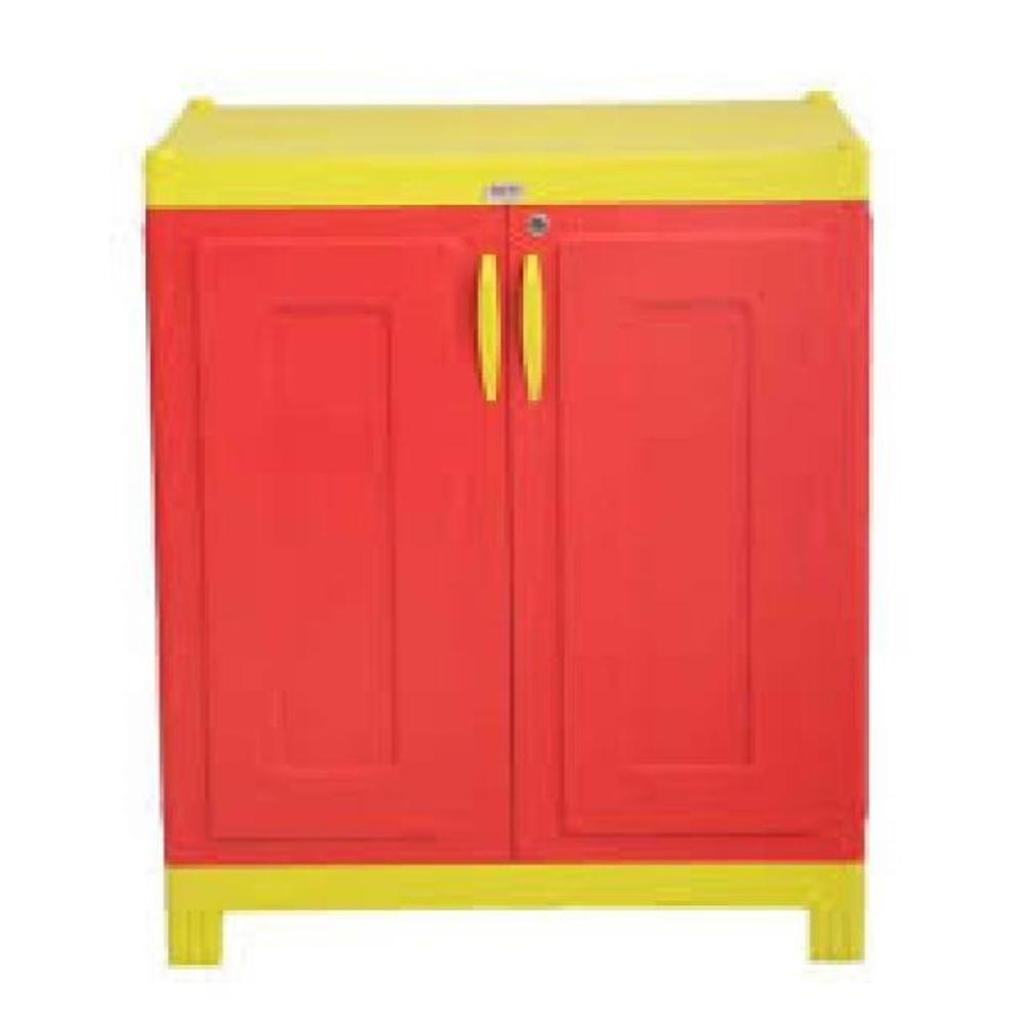cabinet: (132, 69, 905, 995)
